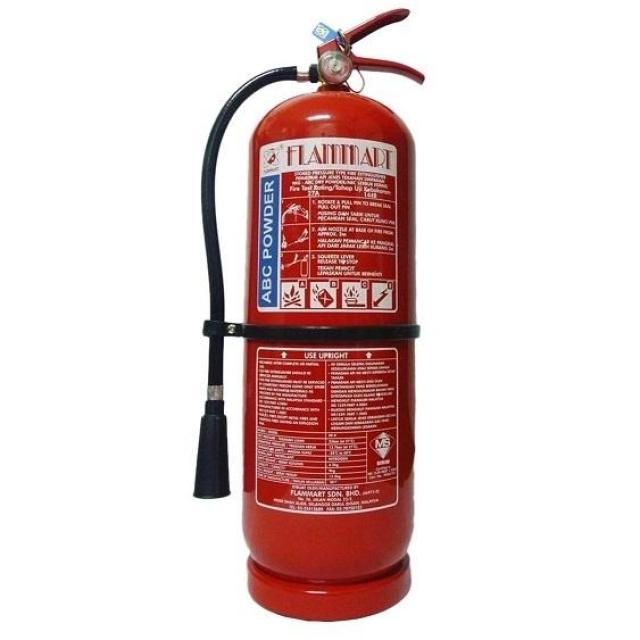fire_extinguisher: (187, 4, 430, 626)
